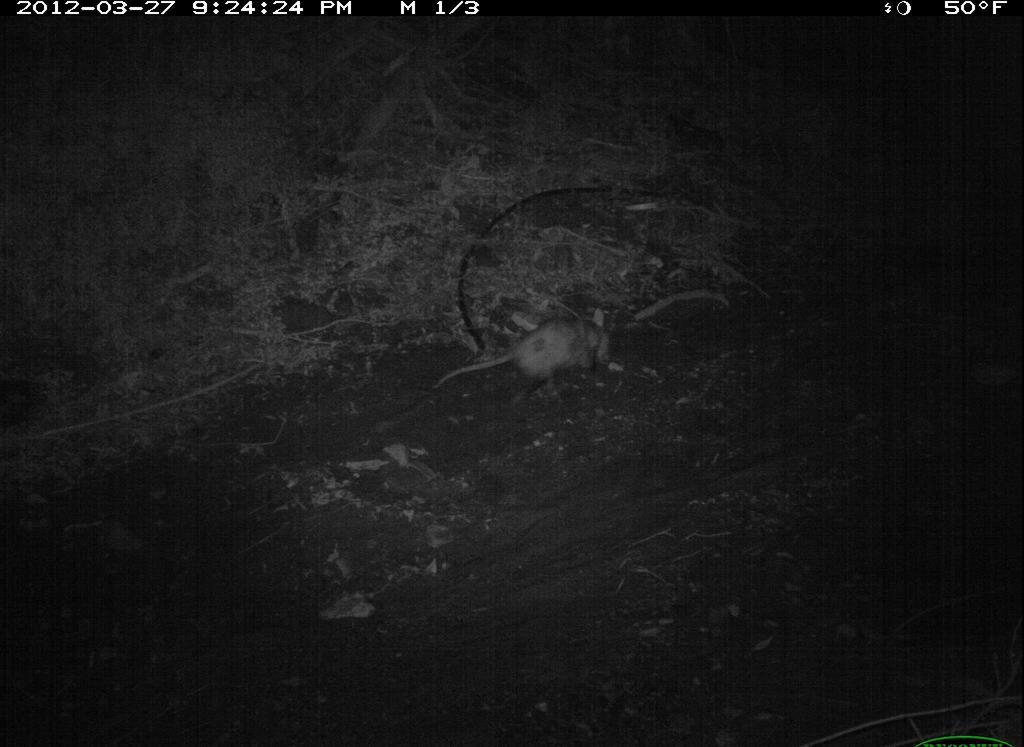opossum: (427, 305, 613, 404)
